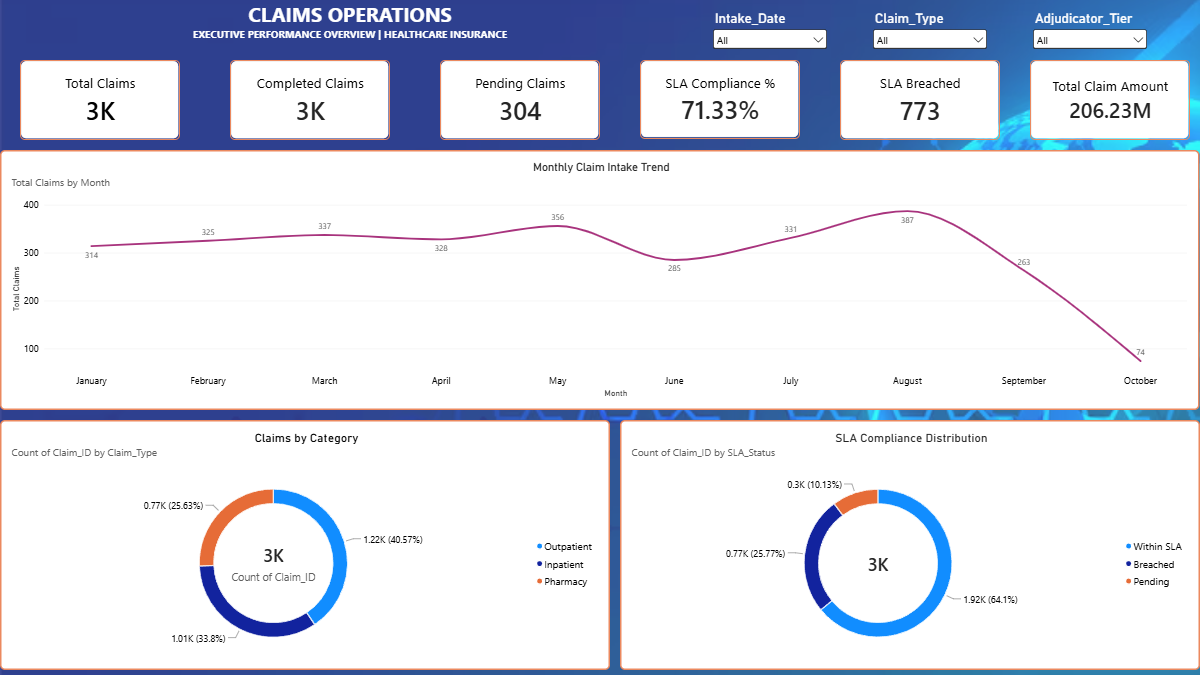

What the dashboard file says about the page in this screenshot:
{"tool":"powerbi","page":{"name":"Executive Overview","canvas":[1920,1080],"ordinal":0},"visuals":[{"type":"textbox","box":[0,0,1120,80],"z":0},{"type":"cardVisual","fields":{"Data":["claims_enriched.Total Claims"]},"box":[32,96,256,128],"z":1000},{"type":"cardVisual","fields":{"Data":["claims_enriched.SLA Compliance %"]},"box":[1024,96,256,126],"z":2000},{"type":"cardVisual","fields":{"Data":["claims_enriched.Pending Claims"]},"box":[704,96,256,128],"z":3000},{"type":"cardVisual","fields":{"Data":["claims_enriched.SLA Breached"]},"box":[1344,96,256,128],"z":4000},{"type":"lineChart","title":"Monthly Claim Intake Trend","fields":{"Category":["claims_enriched.Intake_Date.Variation.Date Hierarchy.Month"],"Y":["claims_enriched.Total Claims"]},"box":[0,240,1919,416],"z":5000},{"type":"donutChart","title":"SLA Compliance Distribution","fields":{"Category":["claims_enriched.SLA_Status"],"Y":["CountNonNull(claims_enriched.Claim_ID)"]},"box":[992,672,928,400],"z":6000},{"type":"donutChart","title":"Claims by Category","fields":{"Category":["claims_enriched.Claim_Type"],"Y":["CountNonNull(claims_enriched.Claim_ID)"]},"box":[0,672,976,400],"z":7000},{"type":"cardVisual","fields":{"Data":["claims_enriched.Completed Claims"]},"box":[368,96,256,128],"z":8000},{"type":"cardVisual","fields":{"Data":["claims_enriched.Total Claim Amount"]},"box":[1648,96,256,128],"z":9000},{"type":"slicer","title":"Intake Date","fields":{"Values":["claims_enriched.Intake_Date","claims_enriched.Claim_Type","claims_enriched.Claim_Status","claims_enriched.Adjudicator_Tier"]},"box":[1136,16,192,80],"z":10000},{"type":"slicer","fields":{"Values":["claims_enriched.Claim_Type"]},"box":[1392,16,192,80],"z":11000},{"type":"slicer","fields":{"Values":["claims_enriched.Adjudicator_Tier"]},"box":[1648,16,192,80],"z":12000}]}

Visuals, with their boxes in screenshot pixels (x1, y1, x2, y2), scaled from the page's 1920x1080 canvas onto the 1200x675 screenshot:
textbox: [0,0,700,50]
cardVisual - claims_enriched.Total Claims: [20,60,180,140]
cardVisual - claims_enriched.SLA Compliance %: [640,60,800,139]
cardVisual - claims_enriched.Pending Claims: [440,60,600,140]
cardVisual - claims_enriched.SLA Breached: [840,60,1000,140]
"Monthly Claim Intake Trend" lineChart: [0,150,1199,410]
"SLA Compliance Distribution" donutChart: [620,420,1199,670]
"Claims by Category" donutChart: [0,420,610,670]
cardVisual - claims_enriched.Completed Claims: [230,60,390,140]
cardVisual - claims_enriched.Total Claim Amount: [1030,60,1190,140]
"Intake Date" slicer: [710,10,830,60]
slicer - claims_enriched.Claim_Type: [870,10,990,60]
slicer - claims_enriched.Adjudicator_Tier: [1030,10,1150,60]
